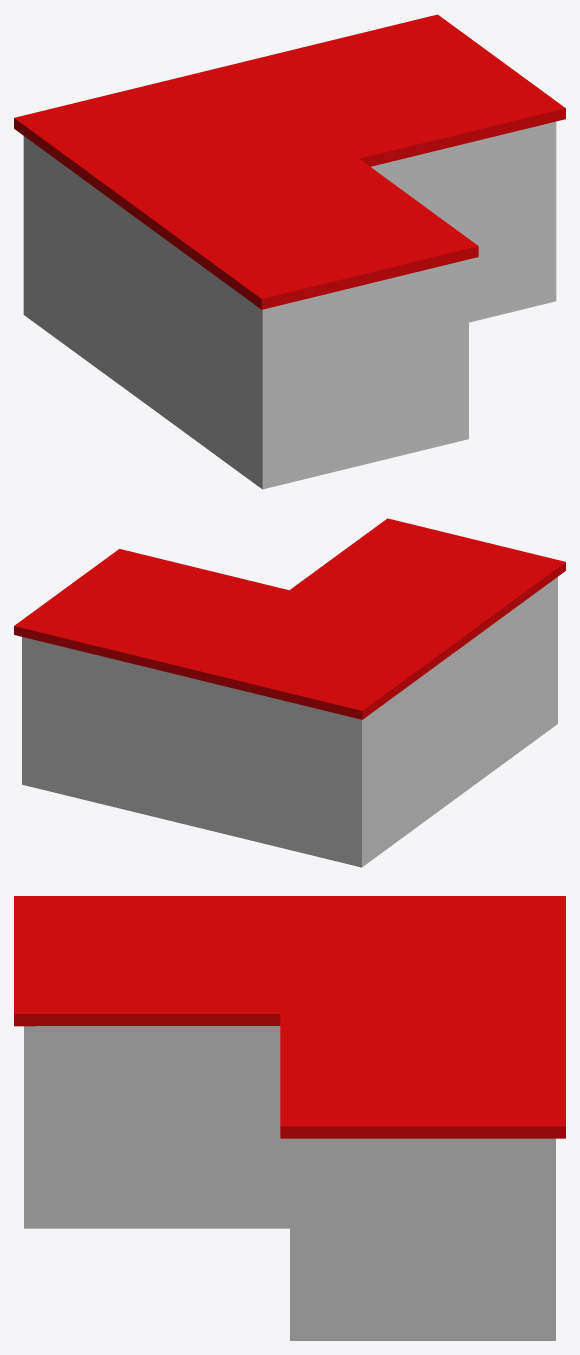
File: House5.fbx
3 views of the same model, one above another, from view 1: azimuth 30°, elevation 25°; view 2: azimuth 150°, elevation 25°; view 3: azimuth 270°, elevation 25° (orthographic). The views are drawn at different scales.
Visible parts, largest first — view 1: House5_LOD0, House5_LOD0.001; view 2: House5_LOD0, House5_LOD0.001; view 3: House5_LOD0, House5_LOD0.001.
Part boxes in pixels (box(x1,y1,x2,y2)): House5_LOD0: box(23, 121, 556, 489); House5_LOD0.001: box(14, 14, 565, 309); House5_LOD0: box(22, 577, 557, 867); House5_LOD0.001: box(14, 518, 565, 719); House5_LOD0: box(24, 1026, 555, 1340); House5_LOD0.001: box(14, 896, 565, 1138).
Bounding box in the file's own units: 1025 × 450 × 1037.
